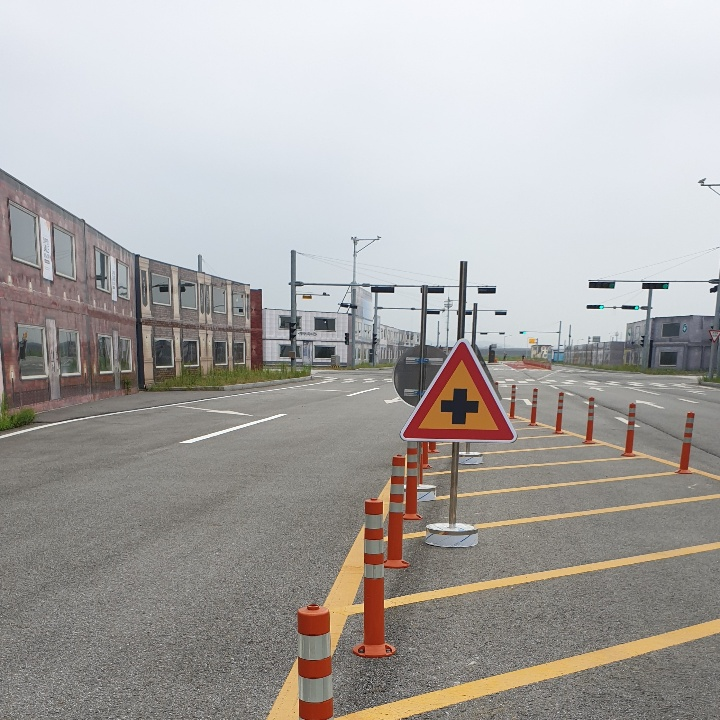inter: (436, 383, 482, 429)
